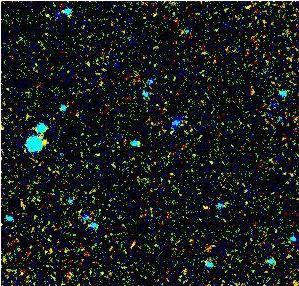star: (29, 126, 59, 156)
